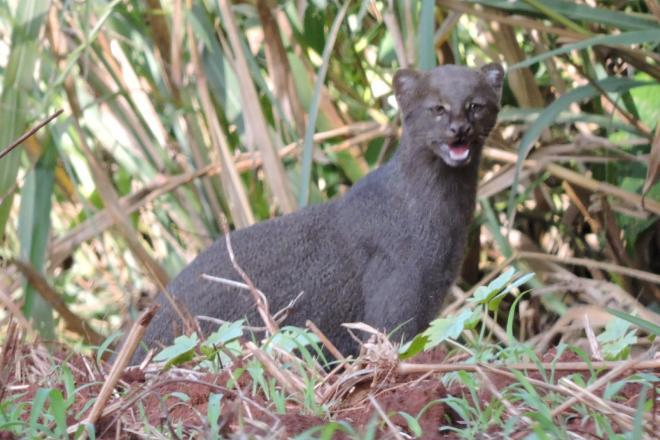Jaguarundi: (129, 56, 511, 352)
